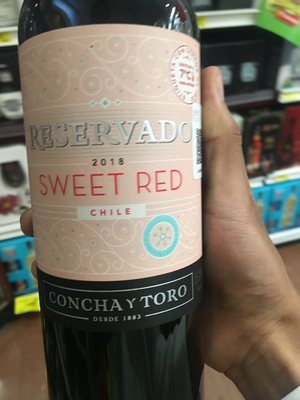reservado sweet red: (18, 1, 207, 400)
